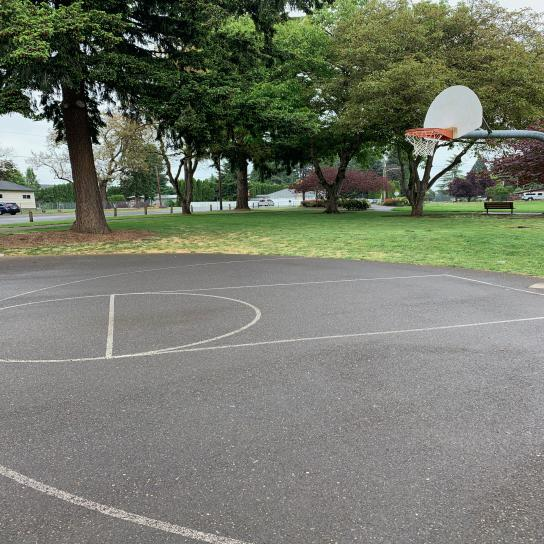basketball-hoop: (402, 127, 444, 157)
